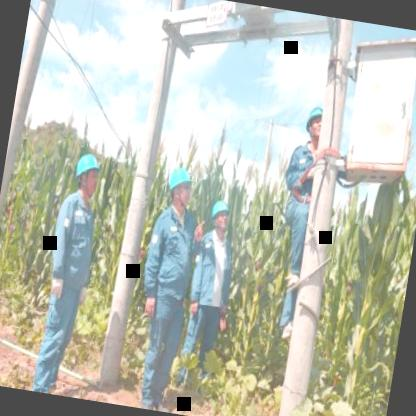helmet: (69, 146, 105, 200), (161, 162, 196, 216), (299, 100, 327, 148), (206, 196, 234, 236)
